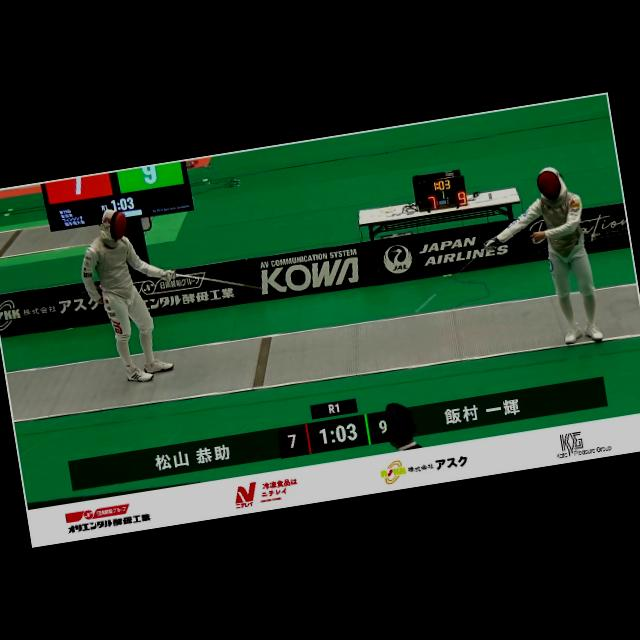blade: (400, 239, 506, 316), (164, 252, 274, 308)
